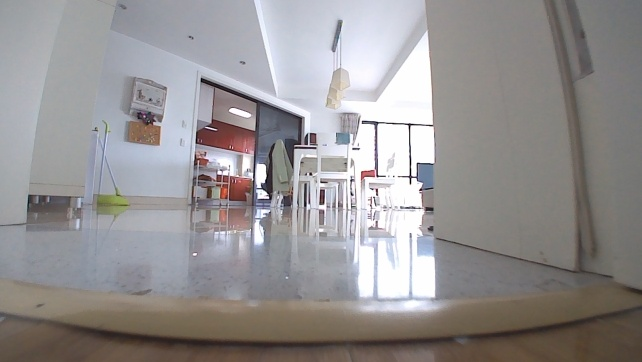cupboard: (214, 169, 252, 206)
dining_table: (263, 130, 400, 211)
